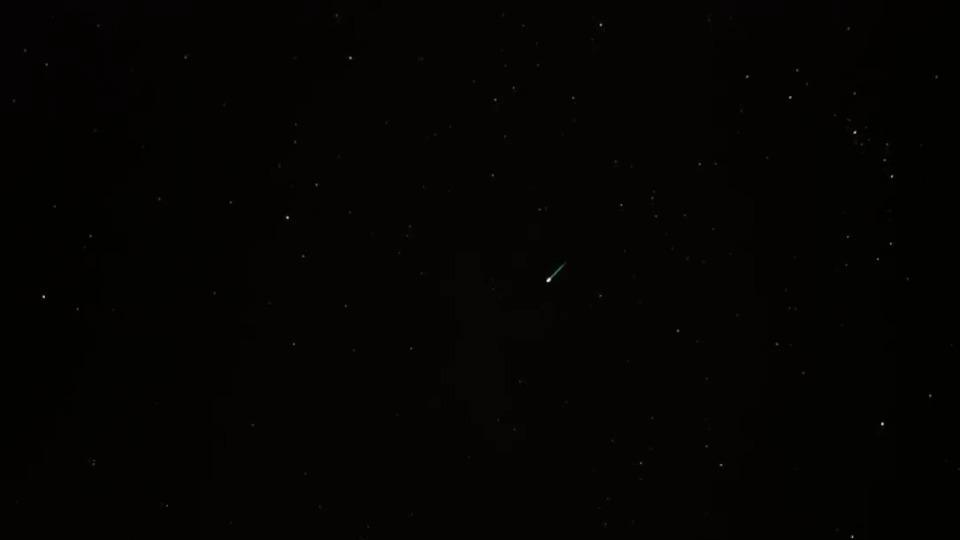meteorite: (513, 257, 605, 285)
